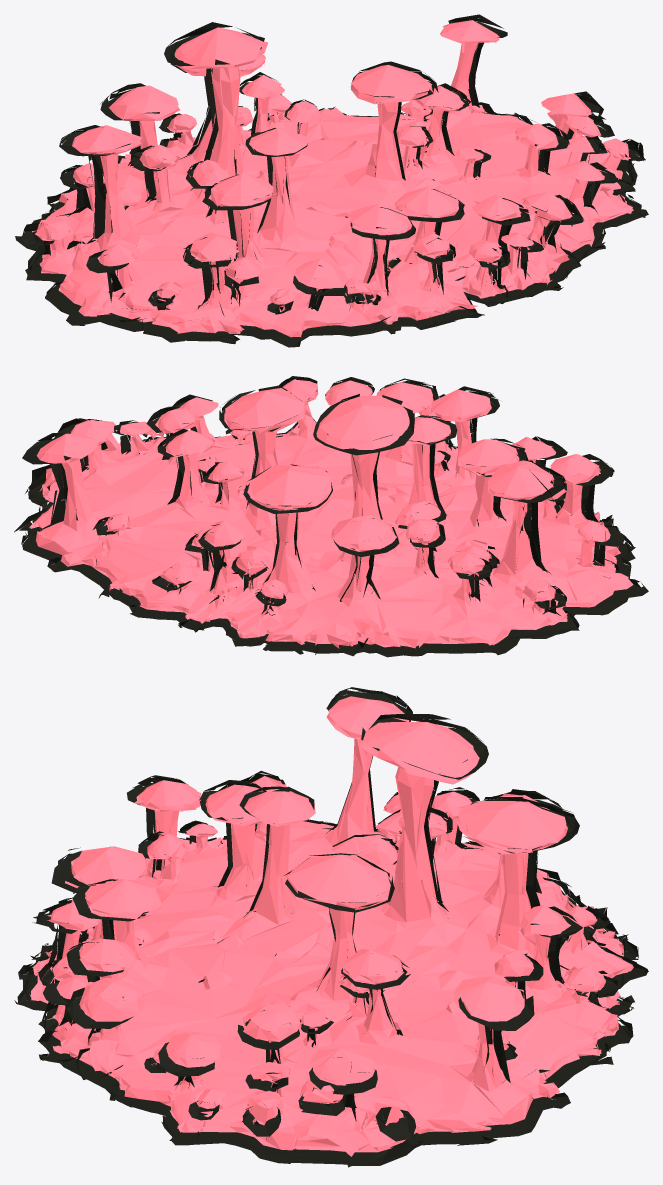
File: df_v2_glowing_mushroom_ring_hero_e_a.glb
3 renders of one model, top to bottom at view 1: azimuth 30°, elevation 25°; view 2: azimuth 150°, elevation 25°; view 3: azimuth 270°, elevation 25°, orthographic. The views are drawn at different scales.
Visible parts, largest first — view 1: glowing_mushroom_ring_hero_e_mesh_01, glowing_mushroom_ring_hero_e_mesh_01_ink_outline; view 2: glowing_mushroom_ring_hero_e_mesh_01, glowing_mushroom_ring_hero_e_mesh_01_ink_outline; view 3: glowing_mushroom_ring_hero_e_mesh_01, glowing_mushroom_ring_hero_e_mesh_01_ink_outline.
Part boxes in pixels (left/top/right/bottom): glowing_mushroom_ring_hero_e_mesh_01: left=32, top=20, right=633, bottom=337; glowing_mushroom_ring_hero_e_mesh_01_ink_outline: left=15, top=14, right=648, bottom=347; glowing_mushroom_ring_hero_e_mesh_01: left=29, top=379, right=633, bottom=648; glowing_mushroom_ring_hero_e_mesh_01_ink_outline: left=14, top=376, right=648, bottom=657; glowing_mushroom_ring_hero_e_mesh_01: left=29, top=696, right=633, bottom=1156; glowing_mushroom_ring_hero_e_mesh_01_ink_outline: left=14, top=687, right=648, bottom=1167.
Bounding box in the file's own units: 2.2 × 0.7112 × 1.71.
